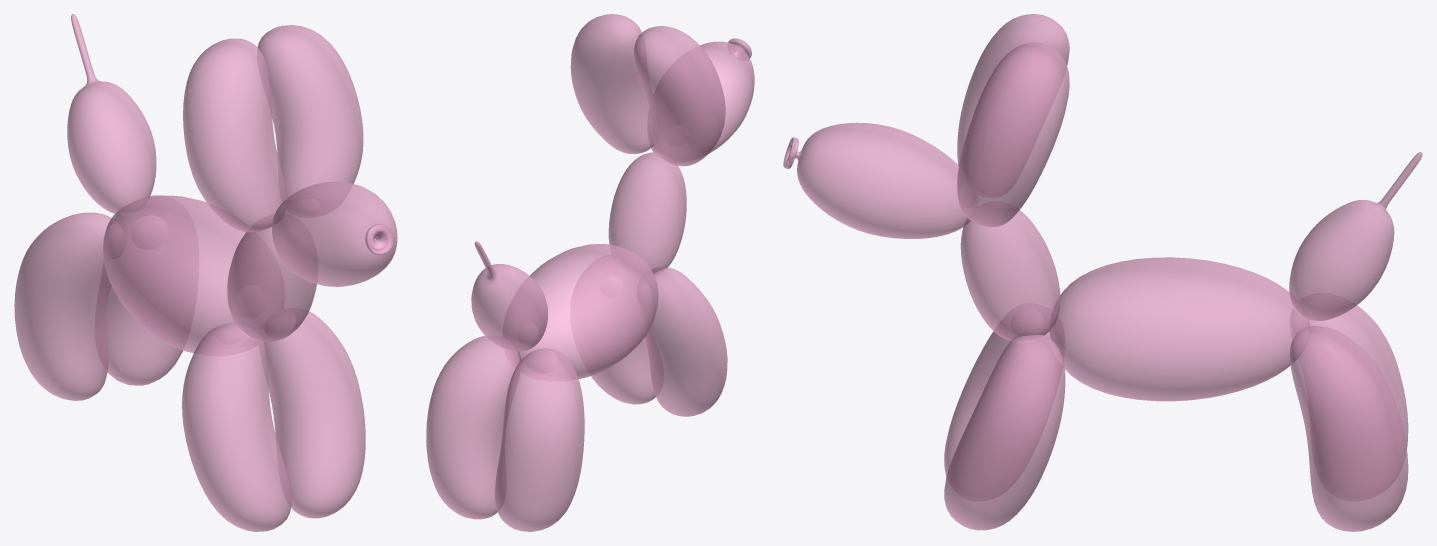
The model's file is DOG.glb.
3 renders of one model, left to right at view 1: azimuth 30°, elevation 25°; view 2: azimuth 150°, elevation 25°; view 3: azimuth 270°, elevation 25°, orthographic. The views are drawn at different scales.
Parts seen in each view (by area): view 1: Cube.001, Cube.006, Cube.002, Cube, Cube.005, Cube.004, Cube.003; view 2: Cube.002, Cube.006, Cube, Cube.001, Cube.003, Cube.004, Cube.005; view 3: Cube, Cube.002, Cube.001, Cube.006, Cube.005, Cube.003, Cube.004.
Part boxes in pixels (bbox=[...]): Cube.001: bbox=[182, 311, 365, 531]; Cube.006: bbox=[183, 25, 363, 232]; Cube.002: bbox=[14, 195, 182, 400]; Cube: bbox=[103, 195, 265, 353]; Cube.005: bbox=[272, 181, 397, 286]; Cube.004: bbox=[67, 14, 156, 215]; Cube.003: bbox=[227, 227, 316, 342]; Cube.002: bbox=[426, 336, 584, 531]; Cube.006: bbox=[570, 14, 725, 166]; Cube: bbox=[504, 244, 658, 378]; Cube.001: bbox=[591, 267, 727, 416]; Cube.003: bbox=[608, 152, 686, 275]; Cube.004: bbox=[471, 241, 547, 351]; Cube.005: bbox=[648, 38, 754, 160]; Cube: bbox=[1049, 257, 1309, 401]; Cube.002: bbox=[1289, 305, 1408, 531]; Cube.001: bbox=[944, 308, 1065, 530]; Cube.006: bbox=[957, 14, 1069, 227]; Cube.005: bbox=[783, 122, 975, 238]; Cube.003: bbox=[960, 210, 1060, 342]; Cube.004: bbox=[1289, 152, 1422, 320].
Bounding box in the file's own units: 2.12 × 5.61 × 6.76.
